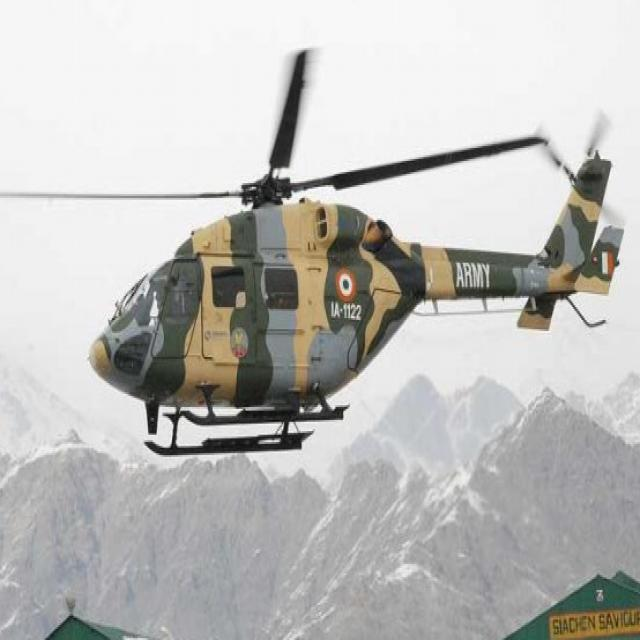helicopter: (1, 38, 632, 471)
